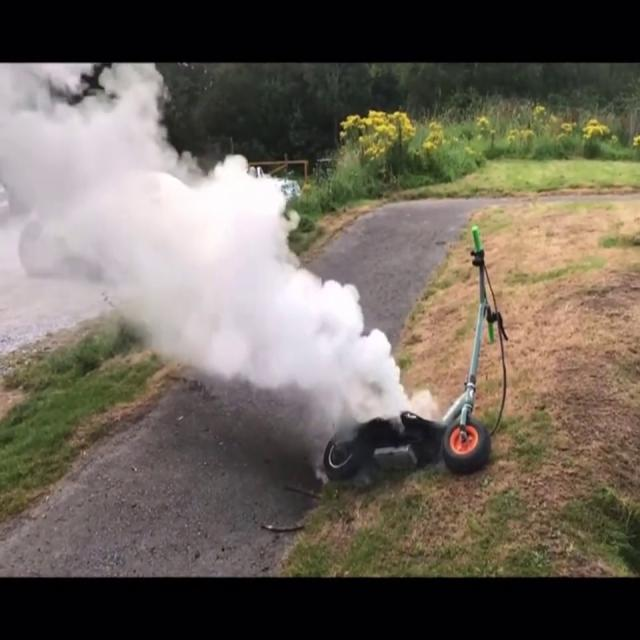Smoke: (0, 62, 401, 424)
